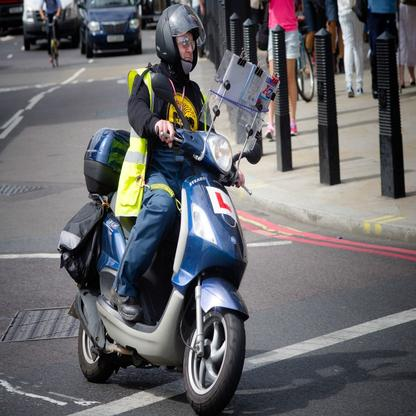target: (56, 3, 281, 413)
